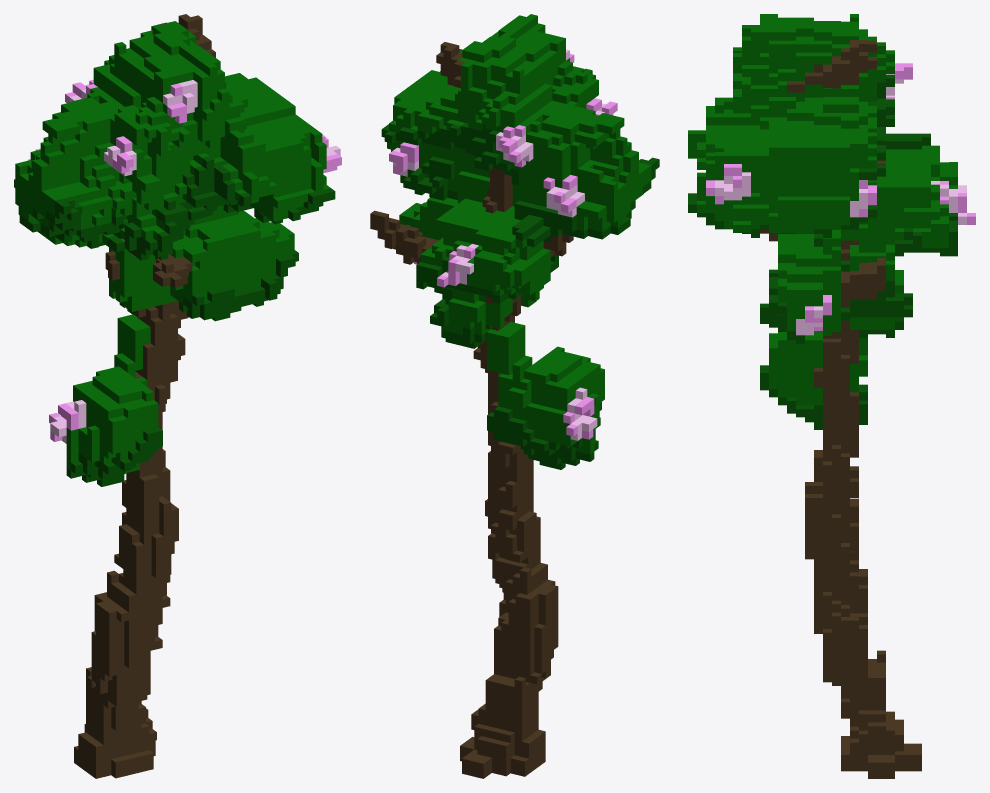
Rendered from Tree.obj.
3 views of the same model, side by side, from view 1: azimuth 30°, elevation 25°; view 2: azimuth 150°, elevation 25°; view 3: azimuth 270°, elevation 25° (orthographic). The views are drawn at different scales.
Size of the model in its own units: 3.4 by 9.2 by 3.2.
1 material, 1 textured.
